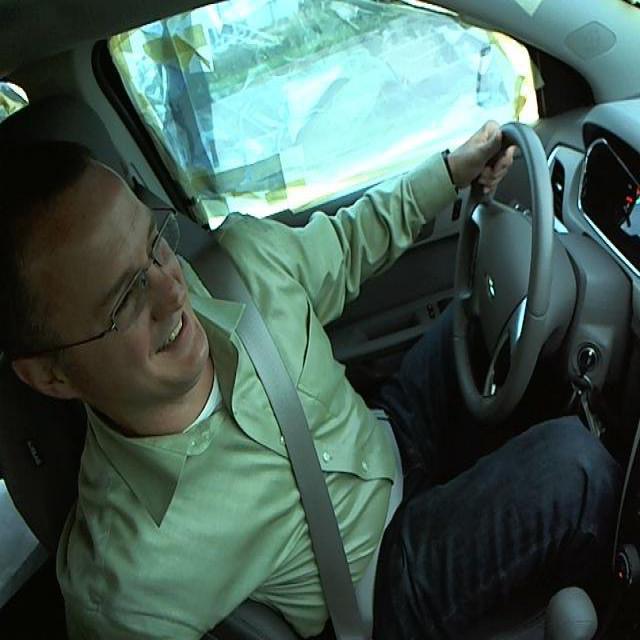seatbelt: (181, 262, 386, 638)
